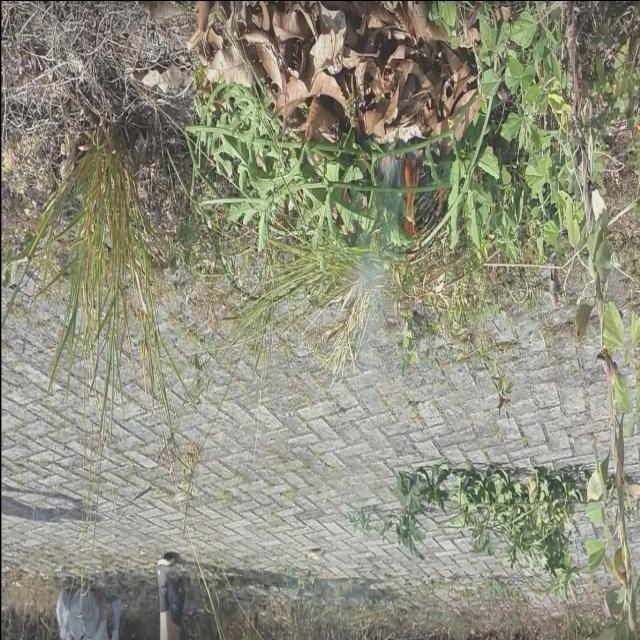Fire: (399, 154, 422, 240)
